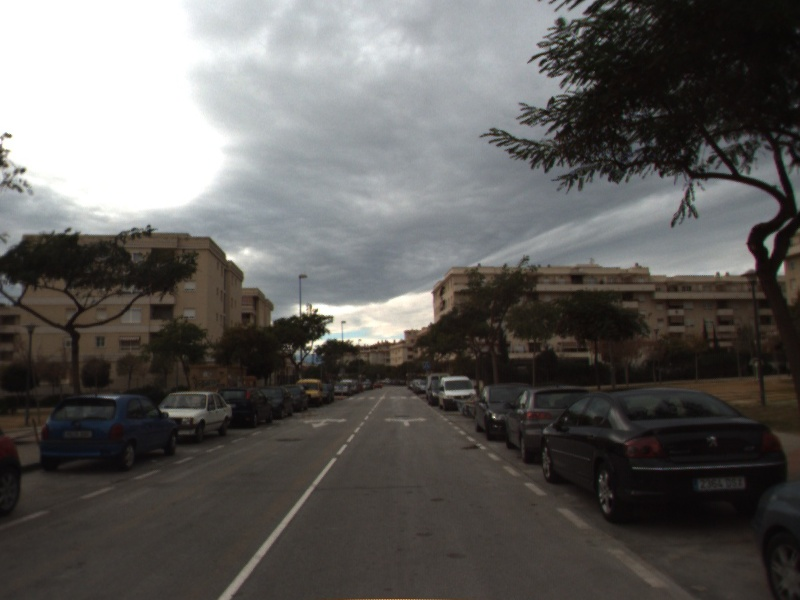LEFT_RIGHT: (382, 414, 429, 428)
